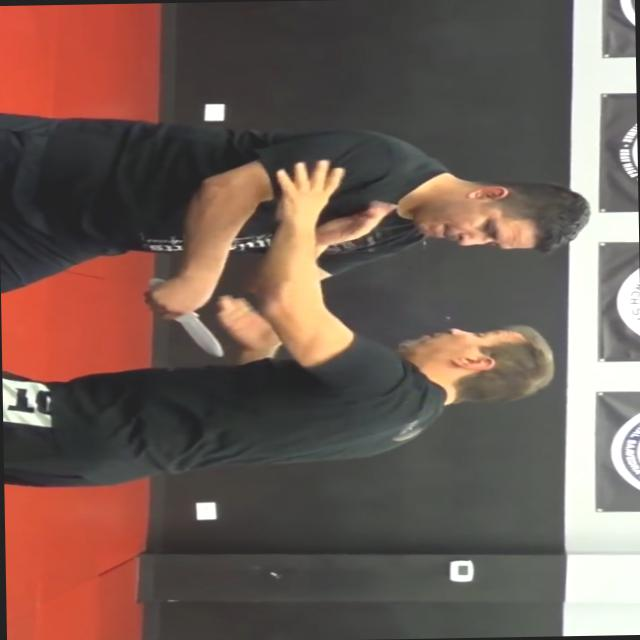knife: (142, 272, 232, 360)
